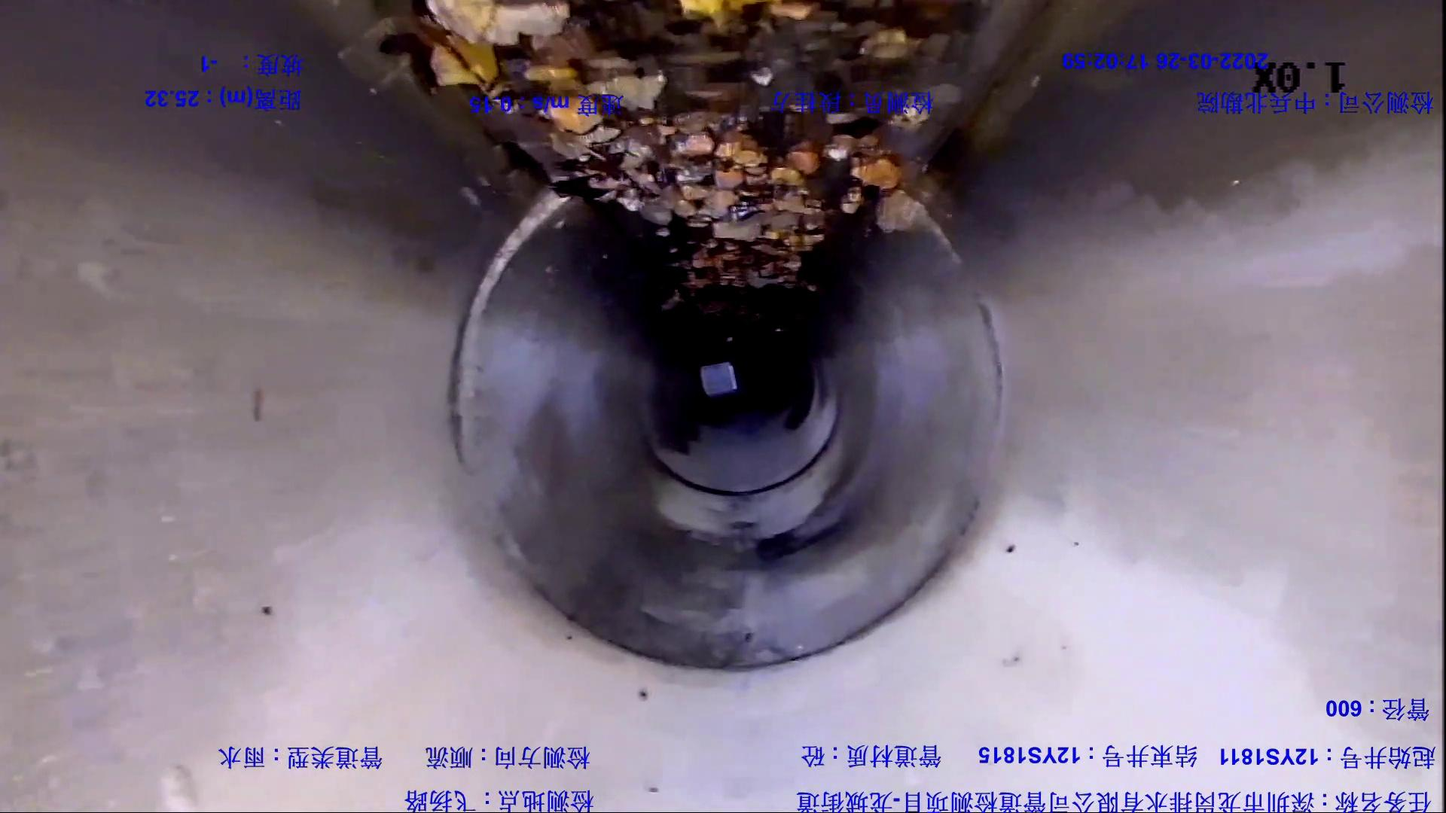CJ: (386, 1, 992, 330)
CKTJ: (441, 164, 1013, 677)
